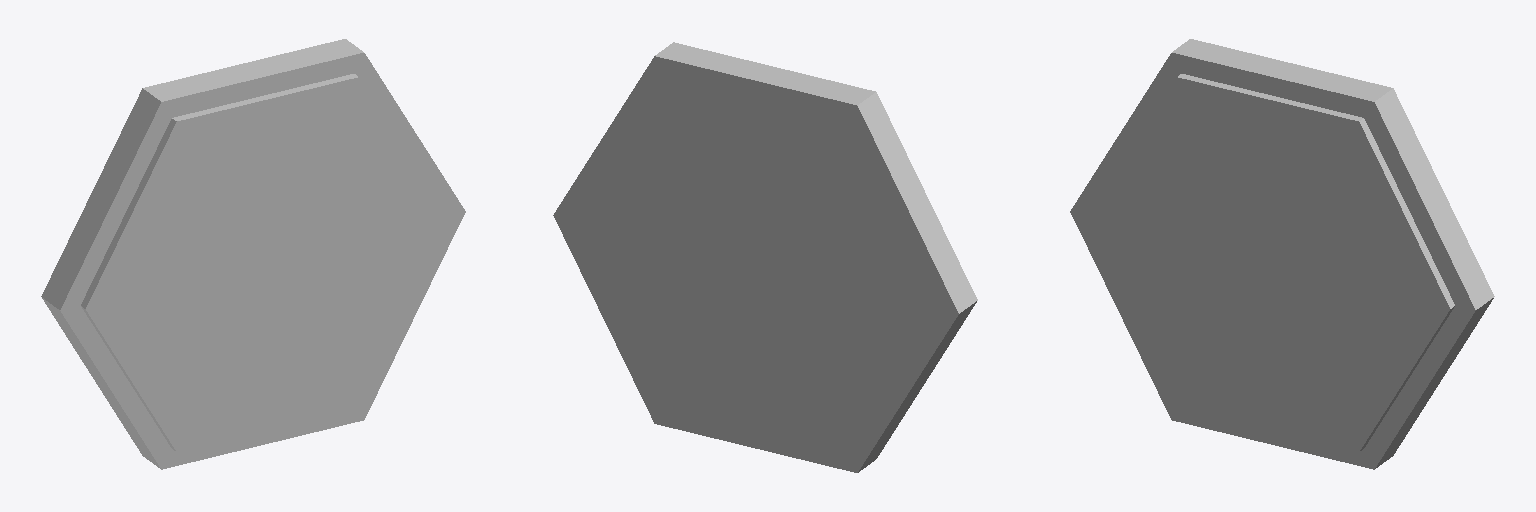
The model's file is hex.obj.
The picture shows the model from 3 angles: view 1: azimuth 30°, elevation 25°; view 2: azimuth 150°, elevation 25°; view 3: azimuth 330°, elevation 25°; orthographic projection.
Parts seen in each view (by area): view 1: hexa; view 2: hexa; view 3: hexa.
Part boxes in pixels (left/top/right/bottom): hexa: left=41, top=39, right=465, bottom=469; hexa: left=553, top=42, right=977, bottom=472; hexa: left=1070, top=39, right=1494, bottom=469.
Bounding box in the file's own units: 792 × 686 × 80.8.